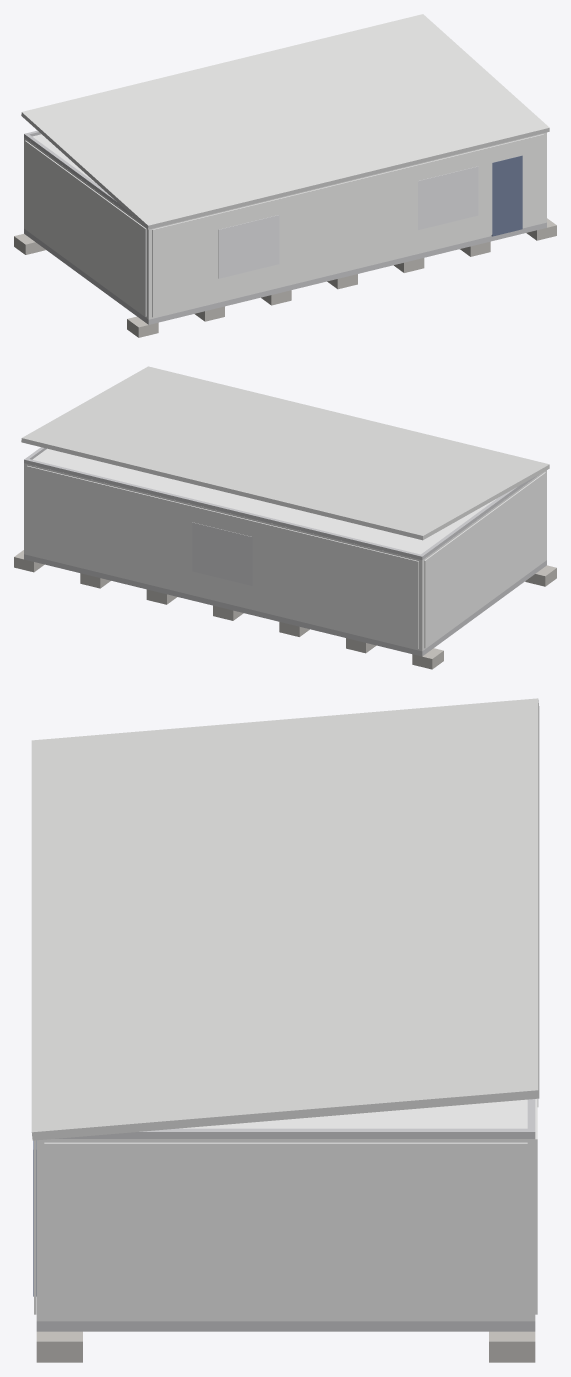
Rendered from Studio-40-Premium+SlopingRoof-LOD0.glb.
The picture shows the model from 3 angles, top to bottom: view 1: azimuth 30°, elevation 25°; view 2: azimuth 150°, elevation 25°; view 3: azimuth 270°, elevation 25°; orthographic projection. The views are drawn at different scales.
Parts seen in each view (by area): view 1: RoofSlopingUpgrade, ExteriorPanelsPremium, WindowsLargeUpgrade, BaseFrame, FoundationBlocks, ExteriorShell, EntryDoor, TopFrame; view 2: RoofSlopingUpgrade, ExteriorPanelsPremium, InteriorCeiling, TopFrame, BaseFrame, ExteriorShell, WindowsLargeUpgrade, FoundationBlocks; view 3: RoofSlopingUpgrade, ExteriorPanelsPremium, ExteriorShell, BaseFrame, InteriorCeiling, TopFrame, FoundationBlocks.
Part boxes in pixels (x1,y1,x2,y2): RoofSlopingUpgrade: (21, 14, 549, 229); ExteriorPanelsPremium: (25, 134, 544, 317); WindowsLargeUpgrade: (218, 166, 478, 278); BaseFrame: (24, 222, 546, 324); FoundationBlocks: (14, 218, 556, 337); ExteriorShell: (24, 132, 546, 319); EntryDoor: (491, 155, 522, 236); TopFrame: (24, 130, 136, 219); RoofSlopingUpgrade: (21, 366, 549, 540); ExteriorPanelsPremium: (26, 465, 545, 648); InteriorCeiling: (32, 448, 496, 554); TopFrame: (24, 447, 538, 559); BaseFrame: (24, 554, 546, 656); ExteriorShell: (24, 463, 546, 651); WindowsLargeUpgrade: (192, 522, 252, 585); FoundationBlocks: (14, 550, 556, 669); RoofSlopingUpgrade: (31, 698, 539, 1140); ExteriorPanelsPremium: (34, 1098, 537, 1318); ExteriorShell: (36, 1139, 535, 1321); BaseFrame: (36, 1321, 535, 1331); InteriorCeiling: (179, 1099, 527, 1128); TopFrame: (55, 1099, 535, 1138); FoundationBlocks: (36, 1331, 535, 1362).
Size of the model in its own units: 12.49 by 3.77 by 6.56.
